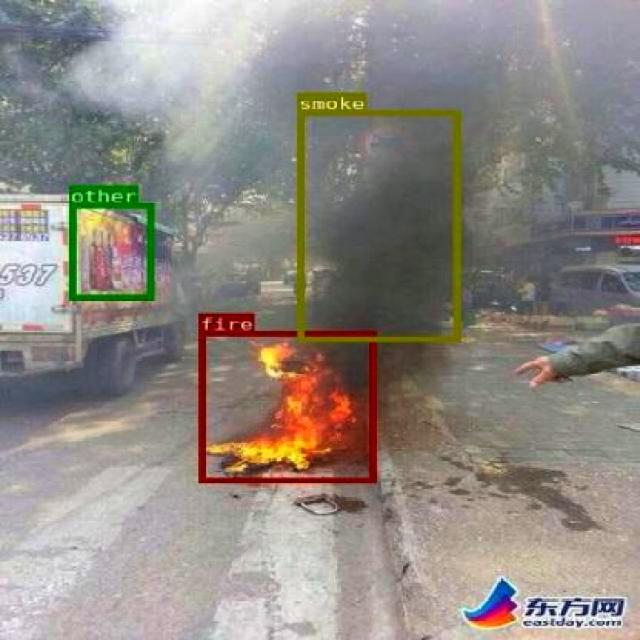fire: (198, 330, 374, 481)
smoke: (296, 110, 459, 341)
